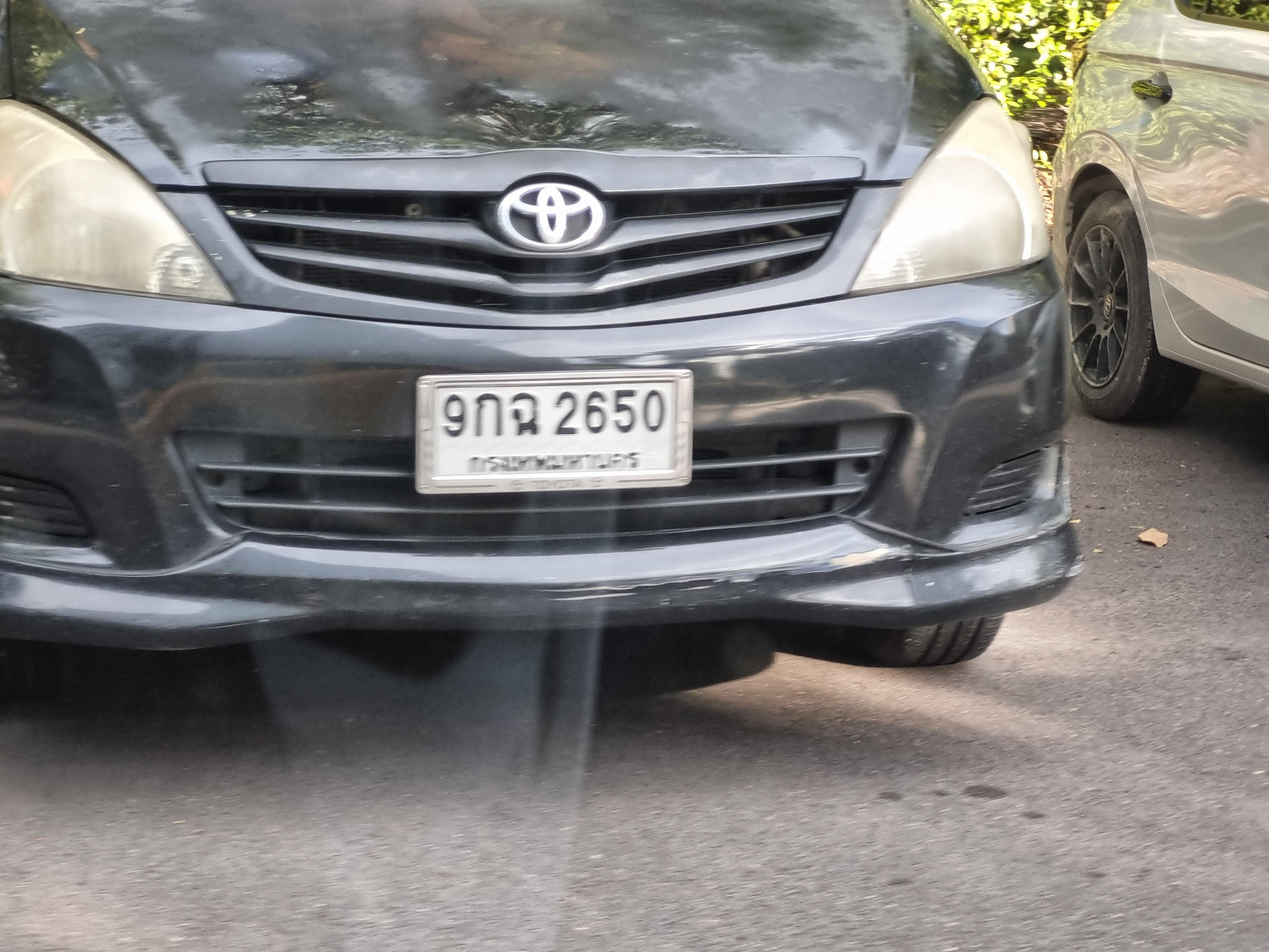license-plate: (415, 363, 696, 489)
